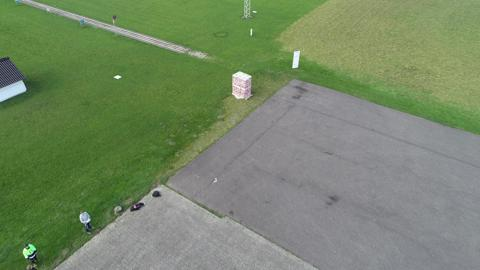RockwoolPallet: (232, 71, 253, 101)
